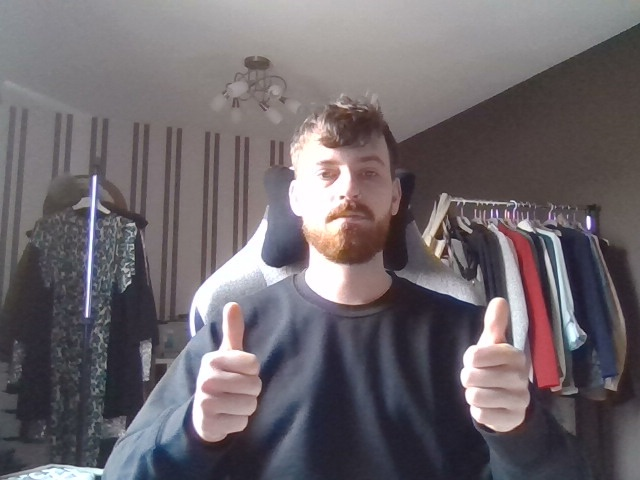Thumbs Up: (179, 293, 276, 450), (454, 295, 540, 436)
